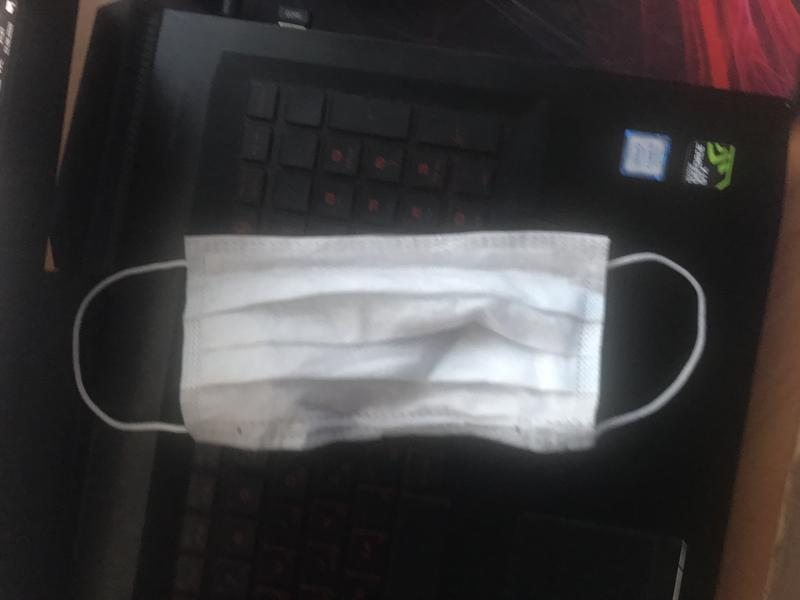medical_mask: (72, 230, 701, 456)
